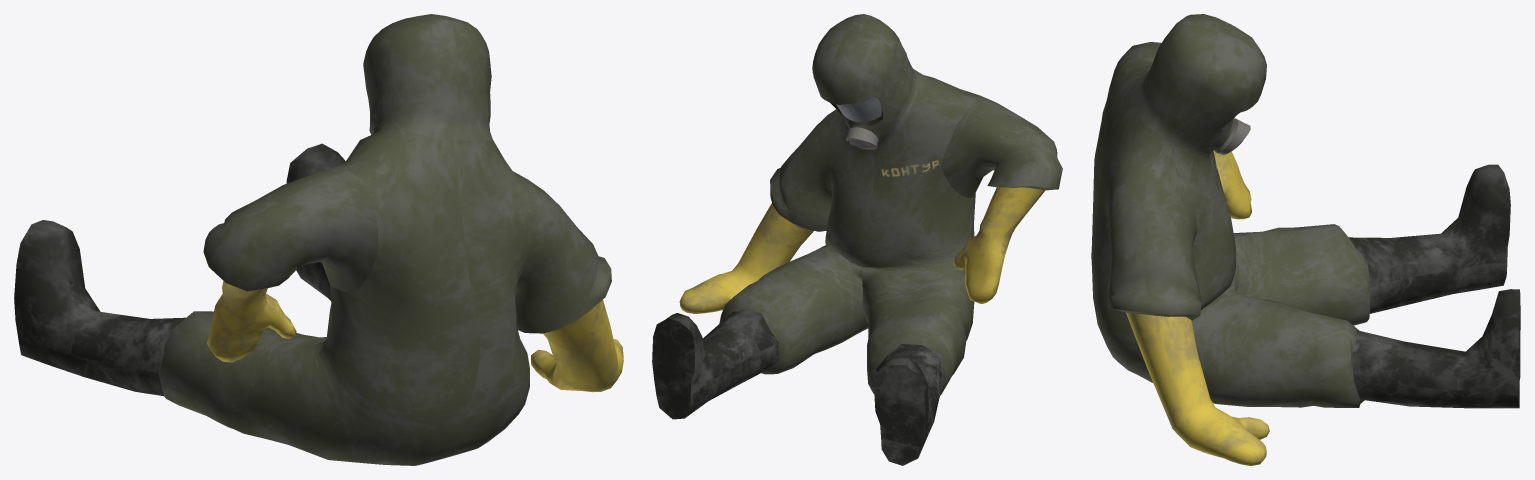
The model's file is KonturGuy_Sits.fbx.
3 renders of one model, left to right at view 1: azimuth 30°, elevation 25°; view 2: azimuth 150°, elevation 25°; view 3: azimuth 270°, elevation 25°, orthographic. The views are drawn at different scales.
Visible parts, largest first — view 1: KonturGuy_Sits; view 2: KonturGuy_Sits; view 3: KonturGuy_Sits.
Part boxes in pixels (x1,y1,x2,y2): KonturGuy_Sits: (14,14,623,465); KonturGuy_Sits: (652,14,1062,465); KonturGuy_Sits: (1091,14,1520,465).
Bounding box in the file's own units: 158 × 135 × 146.
